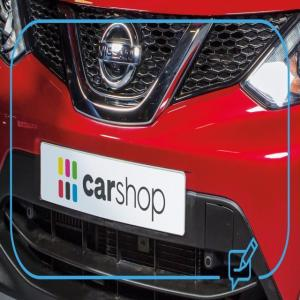Plate: (40, 143, 186, 234)
